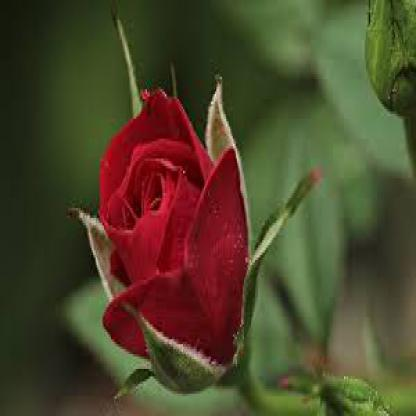Rose-Mawar: (91, 78, 267, 380)
